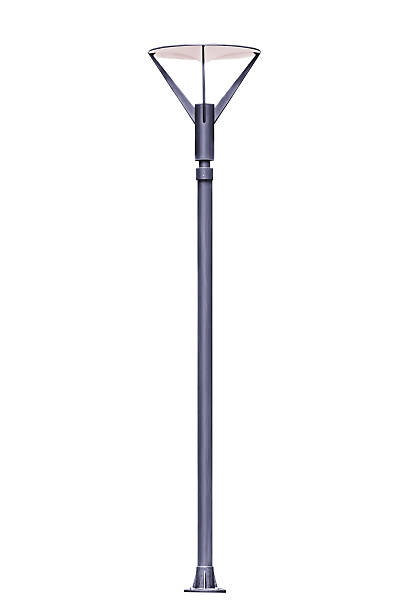light_pole: (192, 120, 218, 587)
